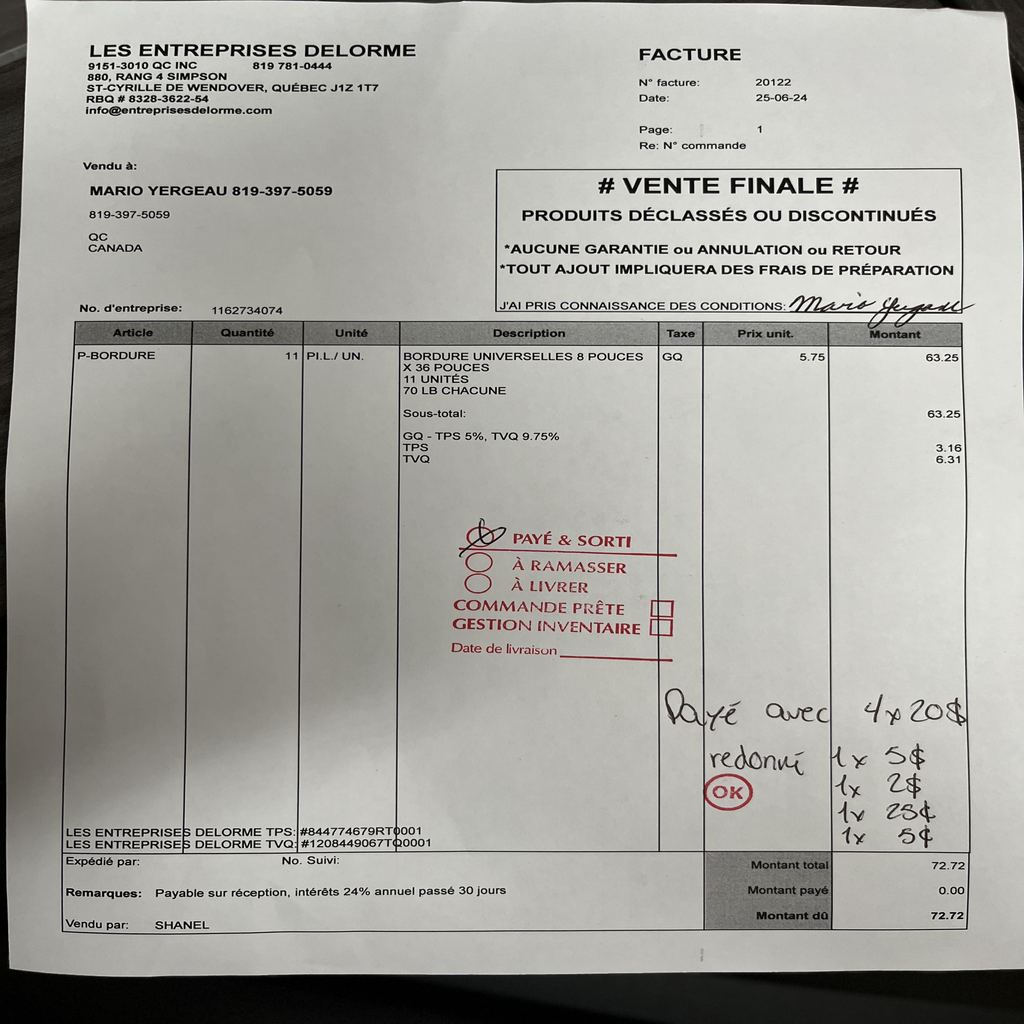recipt: (4, 0, 1024, 972)
